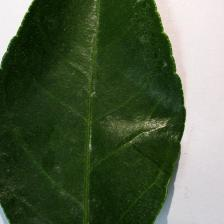healthy: (1, 0, 188, 224)
